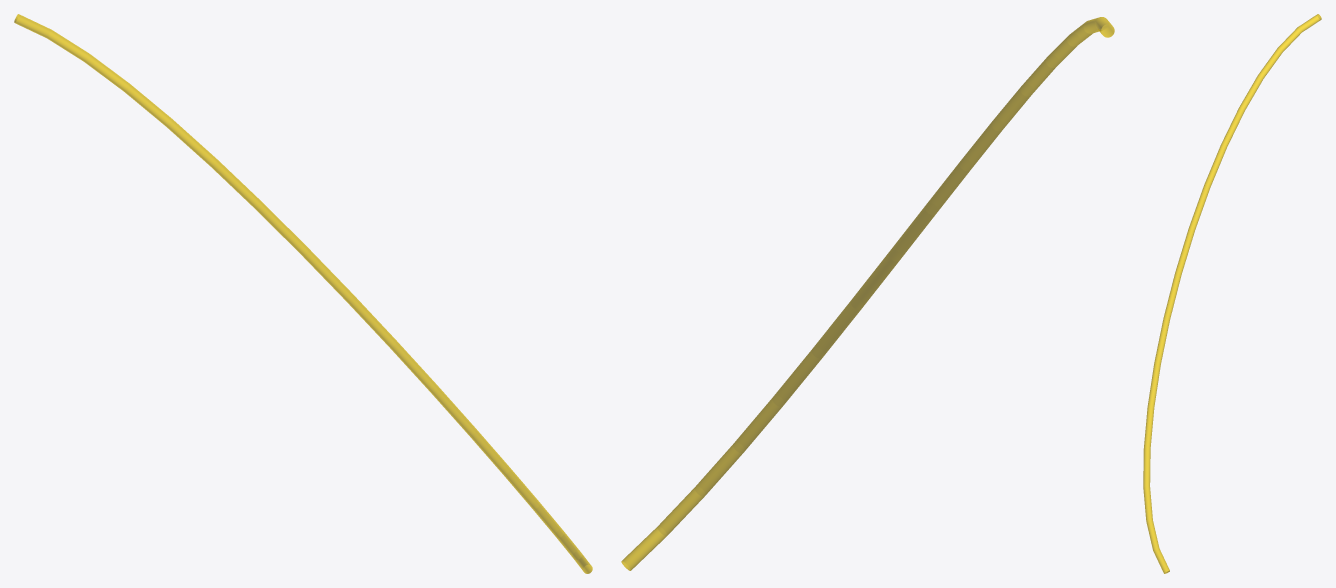
File: Event_100608114_track_2.fbx
3 renders of one model, left to right at view 1: azimuth 30°, elevation 25°; view 2: azimuth 150°, elevation 25°; view 3: azimuth 270°, elevation 25°, orthographic. The views are drawn at different scales.
Parts seen in each view (by area): view 1: Model; view 2: Model; view 3: Model.
Part boxes in pixels (<box>): Model: <box>14,14,592,573</box>; Model: <box>621,17,1114,570</box>; Model: <box>1143,14,1321,573</box>.
Size of the model in its own units: 2.17 by 2.62 by 1.04.
